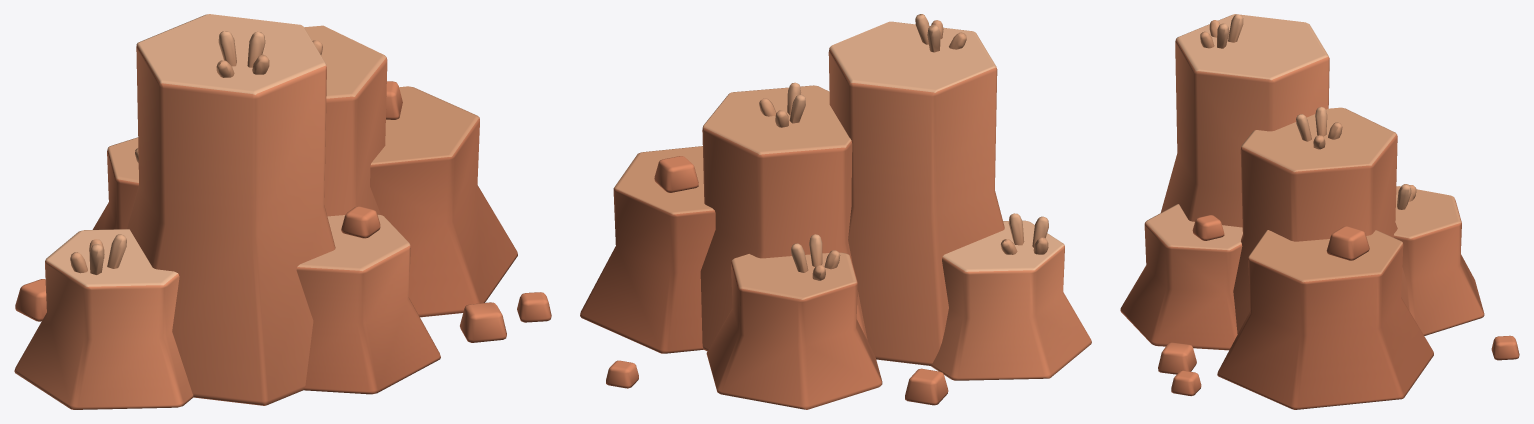
The model's file is rocks-sand-a.glb.
3 views of the same model, side by side, from view 1: azimuth 30°, elevation 25°; view 2: azimuth 150°, elevation 25°; view 3: azimuth 270°, elevation 25° (orthographic). The views are drawn at different scales.
Parts seen in each view (by area): view 1: rocks-sand-a; view 2: rocks-sand-a; view 3: rocks-sand-a.
Part boxes in pixels (x1,y1,x2,y2): rocks-sand-a: (14, 14, 551, 409); rocks-sand-a: (580, 14, 1091, 409); rocks-sand-a: (1120, 14, 1519, 409).
Bounding box in the file's own units: 5.07 × 3.2 × 4.34.
1 material, 1 textured.
